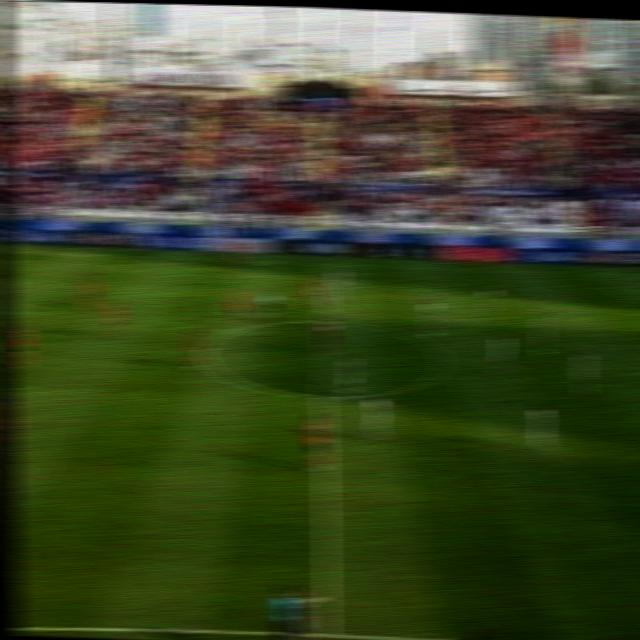halfcircle_bottom: (310, 382, 336, 408)
halfcircle_top: (309, 312, 335, 329)
midline_bottom_intersection: (309, 620, 342, 640)
midline_top_intersection: (308, 253, 329, 269)
